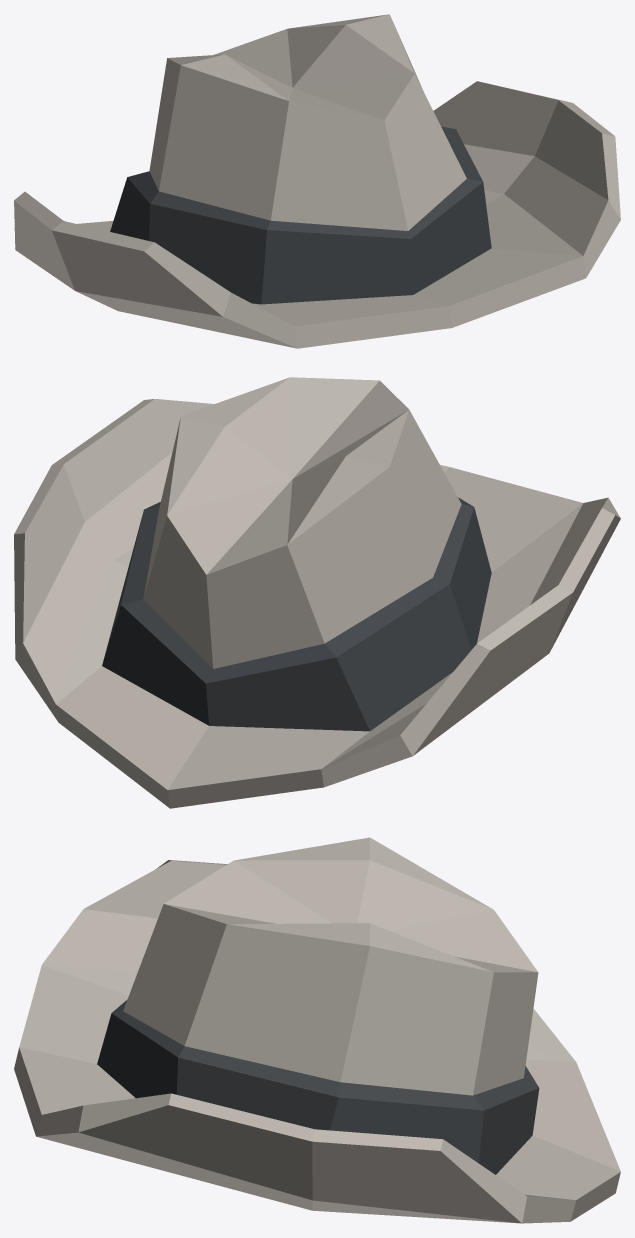
Rendered from SM_Chr_Attach_CowboyHat_02.fbx.
3 views of the same model, one above another, from view 1: azimuth 30°, elevation 25°; view 2: azimuth 150°, elevation 25°; view 3: azimuth 270°, elevation 25° (orthographic). The views are drawn at different scales.
Visible parts, largest first — view 1: SM_Chr_Attach_CowboyHat_02; view 2: SM_Chr_Attach_CowboyHat_02; view 3: SM_Chr_Attach_CowboyHat_02.
Boxes of the visible parts, x1,y1,x2,y2 form: SM_Chr_Attach_CowboyHat_02: (14, 14, 620, 348); SM_Chr_Attach_CowboyHat_02: (14, 377, 620, 808); SM_Chr_Attach_CowboyHat_02: (14, 837, 620, 1223).
Bounding box in the file's own units: 50.85 × 26.36 × 48.07.
